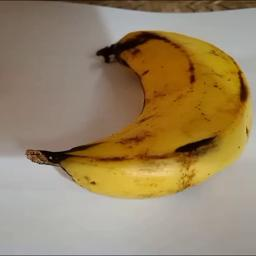Banana Semifresh: (31, 26, 256, 202)
